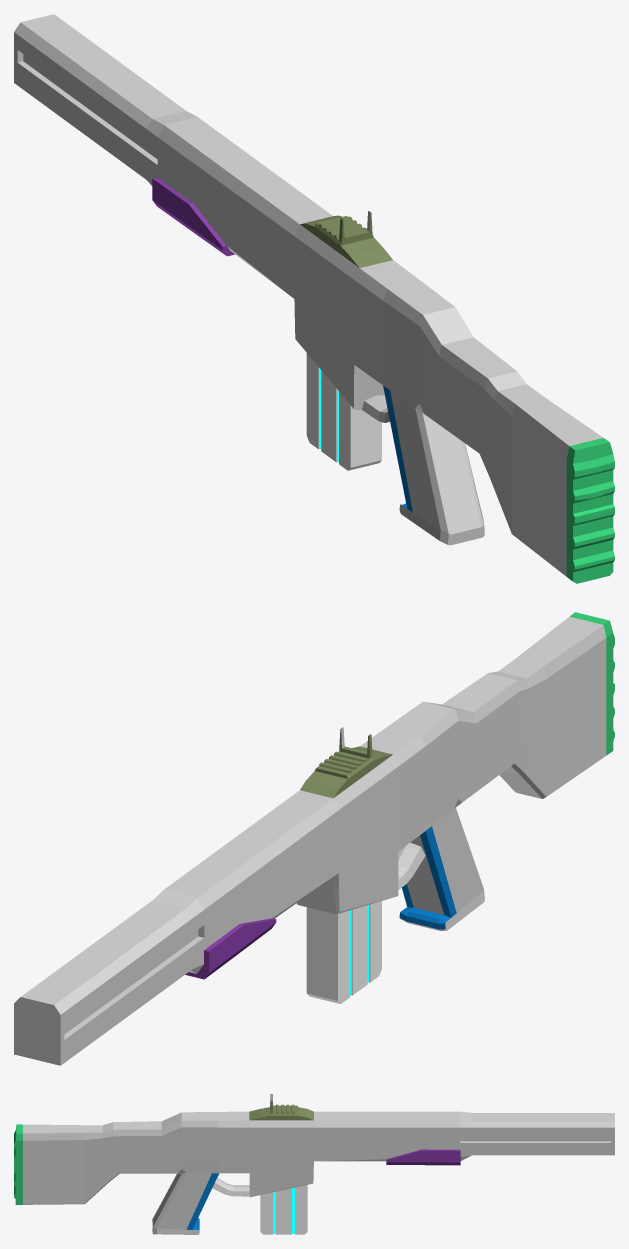
Rendered from Rifle.fbx.
3 views of the same model, one above another, from view 1: azimuth 30°, elevation 25°; view 2: azimuth 150°, elevation 25°; view 3: azimuth 270°, elevation 25° (orthographic). The views are drawn at different scales.
Visible parts, largest first — view 1: MainRifle, Ammo; view 2: MainRifle, Ammo; view 3: MainRifle, Ammo.
Part boxes in pixels (box(x1,y1,x2,y2)): MainRifle: box(14, 14, 614, 583); Ammo: box(306, 353, 381, 470); MainRifle: box(14, 612, 614, 1065); Ammo: box(306, 901, 381, 1003); MainRifle: box(14, 1094, 614, 1234); Ammo: box(260, 1185, 307, 1234).
Bounding box in the file's own units: 23.22 × 96.65 × 397.
